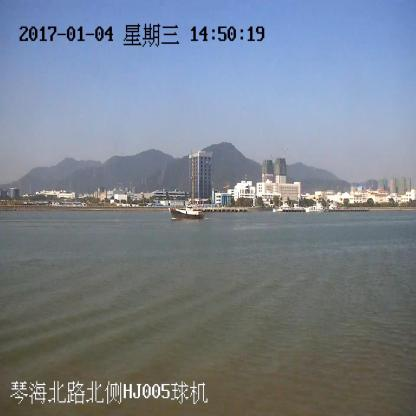Fishing Boat: (171, 207, 203, 220)
